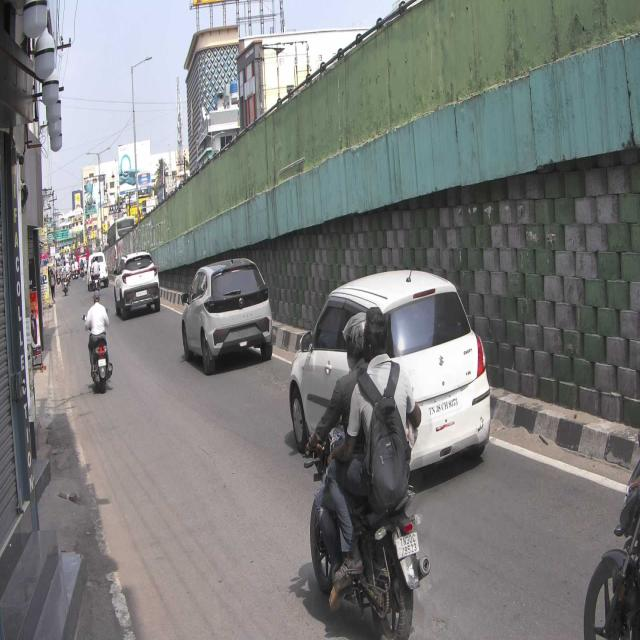double_rider: (301, 305, 433, 640)
